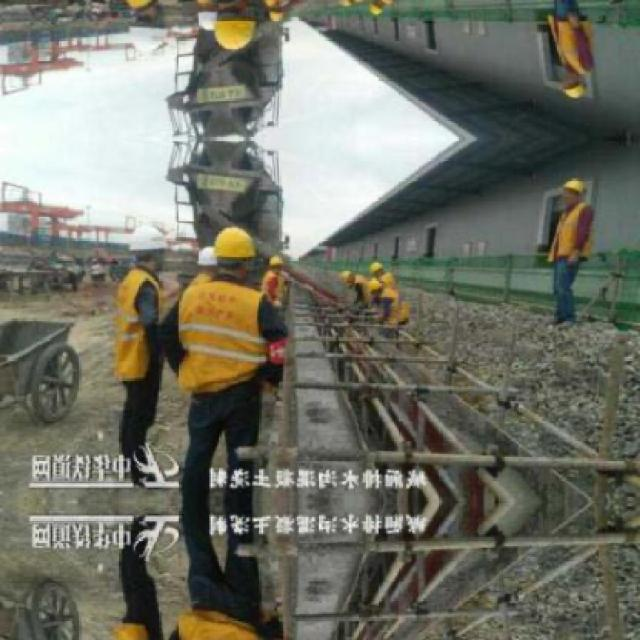con casco: (186, 201, 289, 315), (95, 220, 178, 276), (555, 178, 603, 216), (363, 245, 397, 282)
